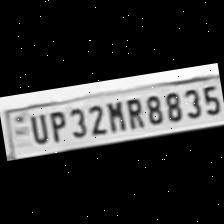2: (83, 100, 107, 138)
3: (63, 104, 87, 140), (180, 84, 203, 120)
5: (198, 81, 223, 118)
8: (160, 86, 184, 124), (140, 91, 164, 128)
M: (103, 97, 127, 134)
P: (44, 108, 68, 144)
R: (122, 95, 145, 131)
U: (24, 110, 49, 146)
